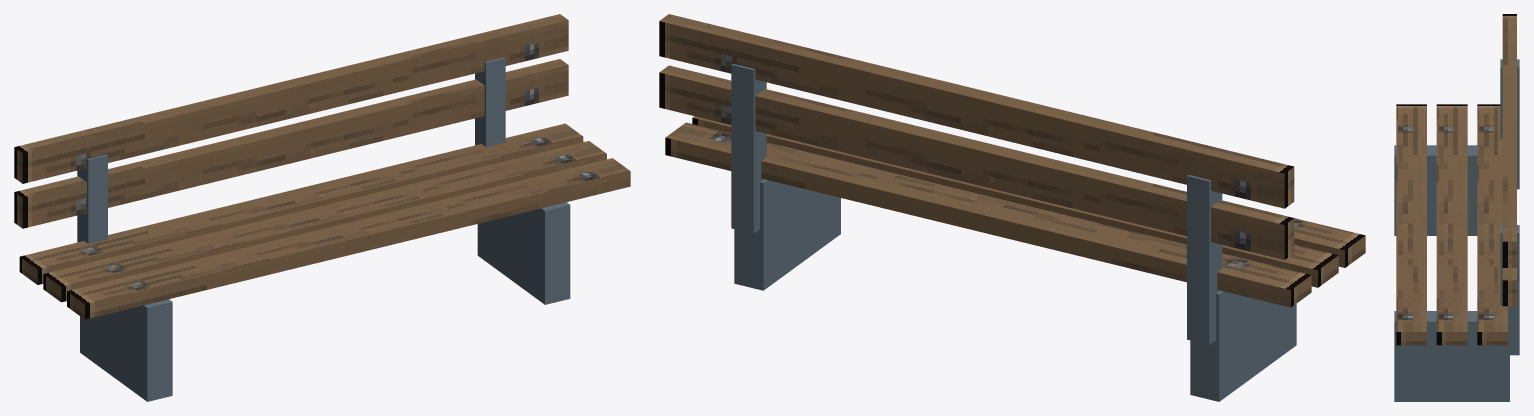
Rendered from bench_wood.glb.
3 views of the same model, side by side, from view 1: azimuth 30°, elevation 25°; view 2: azimuth 150°, elevation 25°; view 3: azimuth 270°, elevation 25° (orthographic). The views are drawn at different scales.
Visible parts, largest first — view 1: bench_wood; view 2: bench_wood; view 3: bench_wood.
Part boxes in pixels (x1=…): bench_wood: x1=14, y1=14, x2=630, y2=401; bench_wood: x1=659, y1=14, x2=1365, y2=401; bench_wood: x1=1394, y1=14, x2=1519, y2=401.
Size of the model in its own units: 2.8 by 1.07 by 0.65.
2 materials, 1 textured.
